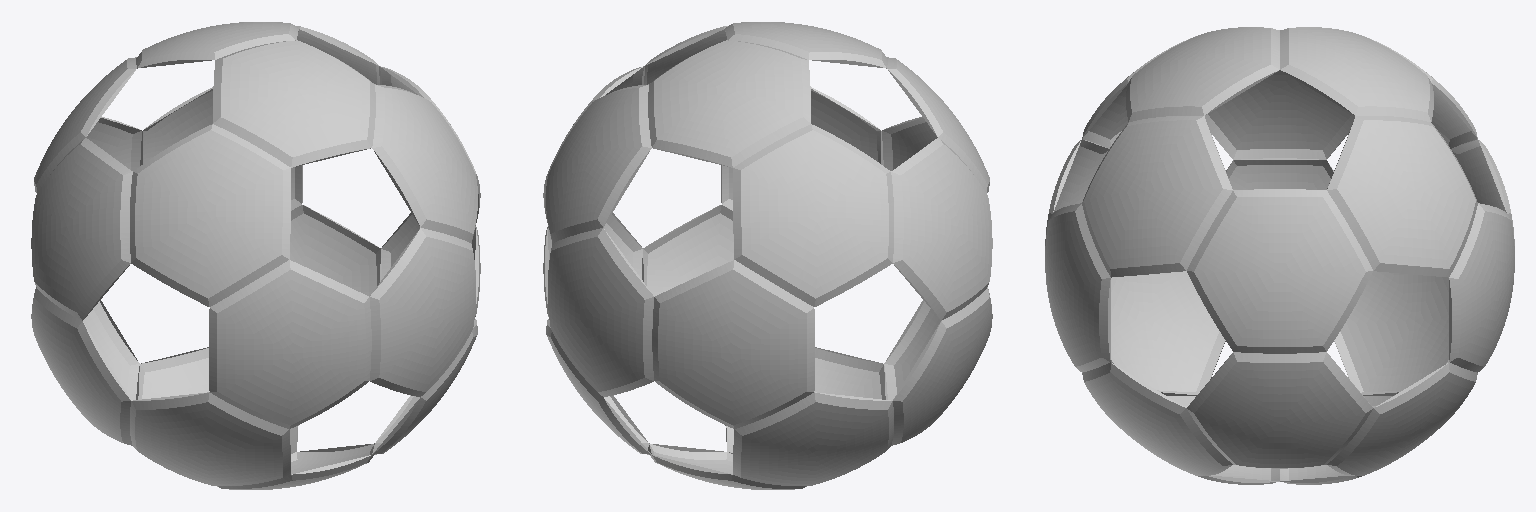
Rendered from ball1.obj.
3 views of the same model, side by side, from view 1: azimuth 30°, elevation 25°; view 2: azimuth 150°, elevation 25°; view 3: azimuth 270°, elevation 25° (orthographic).
Parts seen in each view (by area): view 1: Solid.001; view 2: Solid.001; view 3: Solid.001.
Part boxes in pixels (x1,y1,x2,y2): Solid.001: (31,22,480,489); Solid.001: (543,22,992,489); Solid.001: (1045,27,1514,484).
Size of the model in its own units: 1.94 by 1.94 by 1.94.